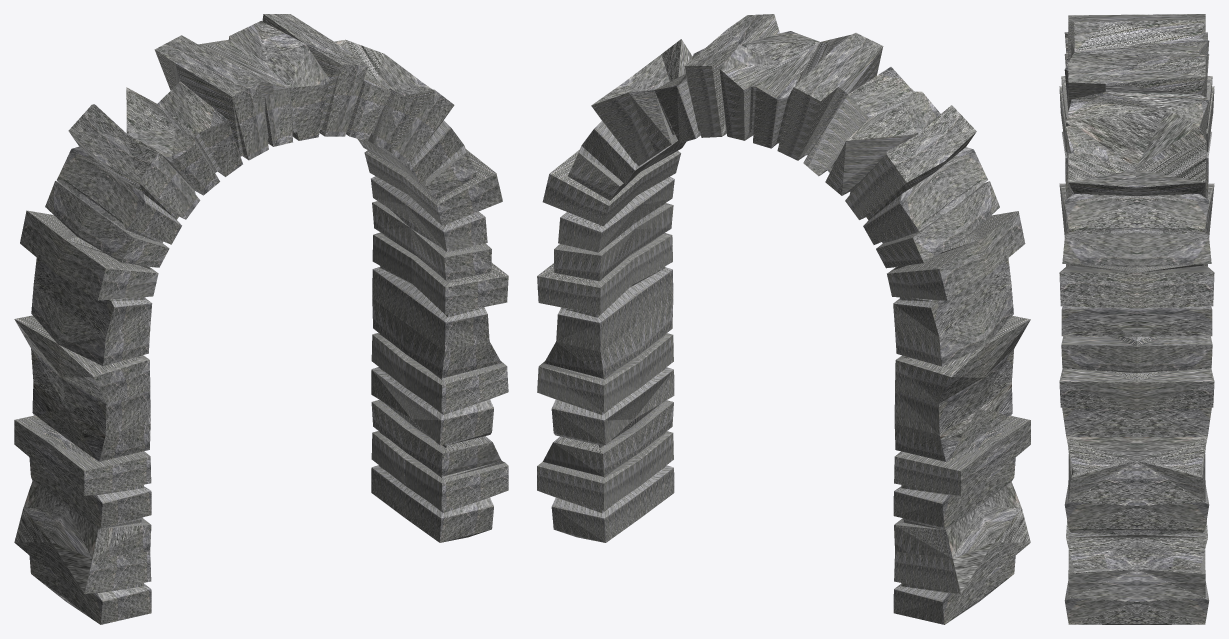
Rendered from Portal.fbx.
3 views of the same model, side by side, from view 1: azimuth 30°, elevation 25°; view 2: azimuth 150°, elevation 25°; view 3: azimuth 270°, elevation 25° (orthographic). The views are drawn at different scales.
Visible parts, largest first — view 1: Archway2:Group36894; view 2: Archway2:Group36894; view 3: Archway2:Group36894.
Part boxes in pixels (left/top/right/bottom): Archway2:Group36894: left=14, top=14, right=508, bottom=624; Archway2:Group36894: left=537, top=14, right=1030, bottom=624; Archway2:Group36894: left=1059, top=14, right=1214, bottom=624.
Size of the model in its own units: 142 by 162 by 45.96.
